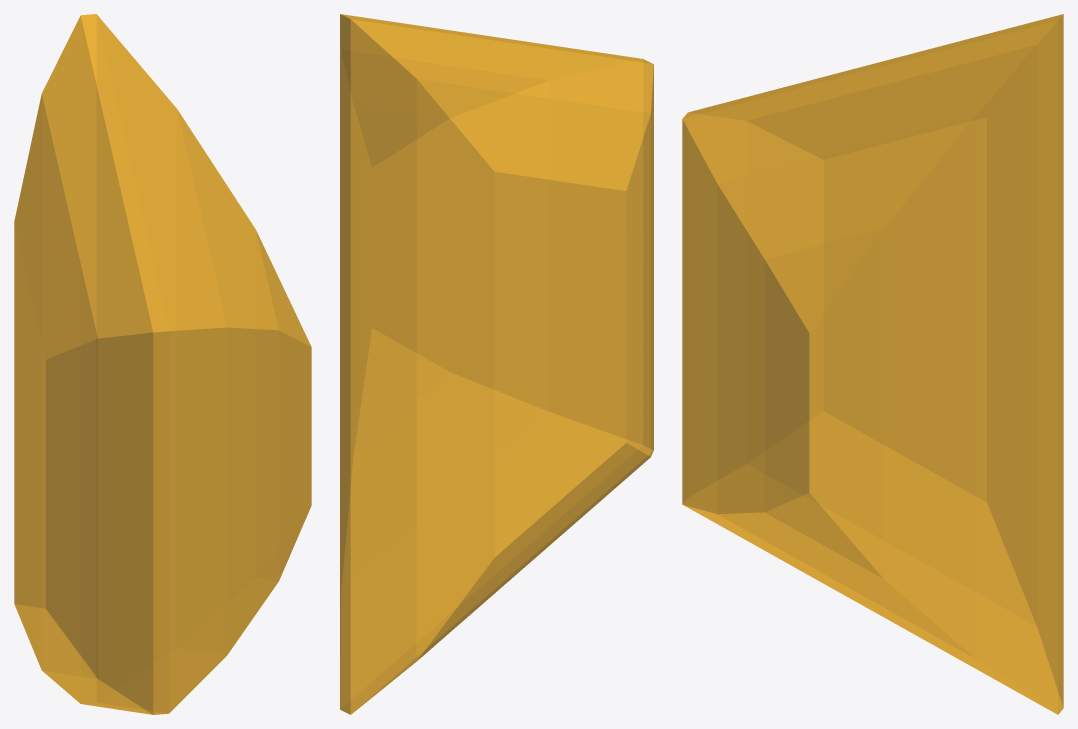
File: trapeze citrine.glb
The picture shows the model from 3 angles, left to right: view 1: azimuth 30°, elevation 25°; view 2: azimuth 150°, elevation 25°; view 3: azimuth 270°, elevation 25°; orthographic projection.
Parts seen in each view (by area): view 1: Trapeze Gemstone.001; view 2: Trapeze Gemstone.001; view 3: Trapeze Gemstone.001.
Part boxes in pixels (bbox=[...]): Trapeze Gemstone.001: bbox=[14, 14, 311, 714]; Trapeze Gemstone.001: bbox=[340, 14, 653, 714]; Trapeze Gemstone.001: bbox=[682, 14, 1063, 714].
Bounding box in the file's own units: 0.7447 × 1.89 × 0.9423.
